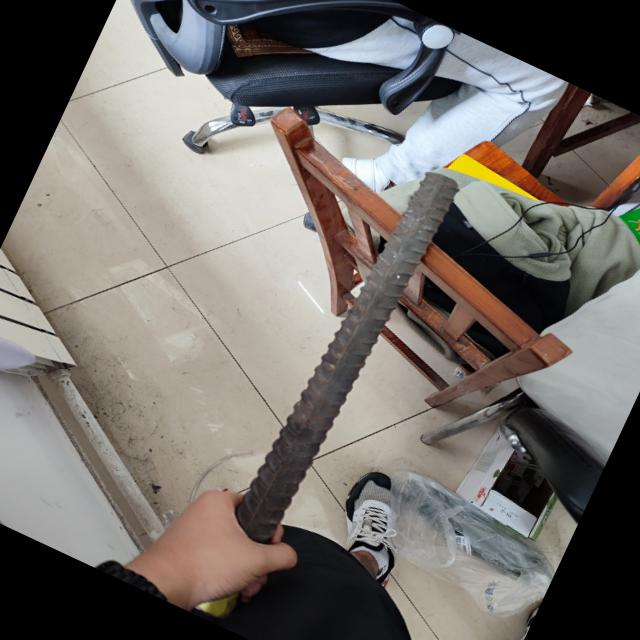ribbed bar: (226, 155, 468, 558)
